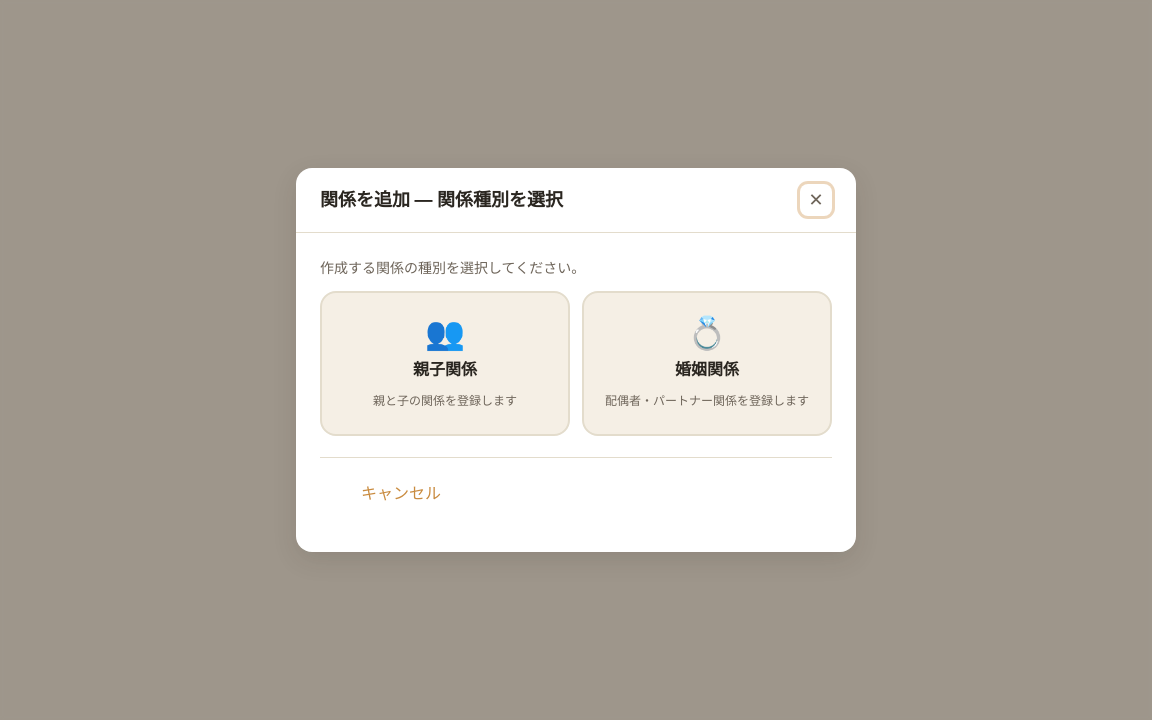
Test case: RelationDialog › ステップ遷移 › TC-06: 人物1を選択すると人物2選択ステップに進み、選択済み人物は除外される
The image size is (1152, 720).
Click the button "👥 親子関係 親と子の関係を登録します".
click(445, 364)  # box [320,291,570,436]
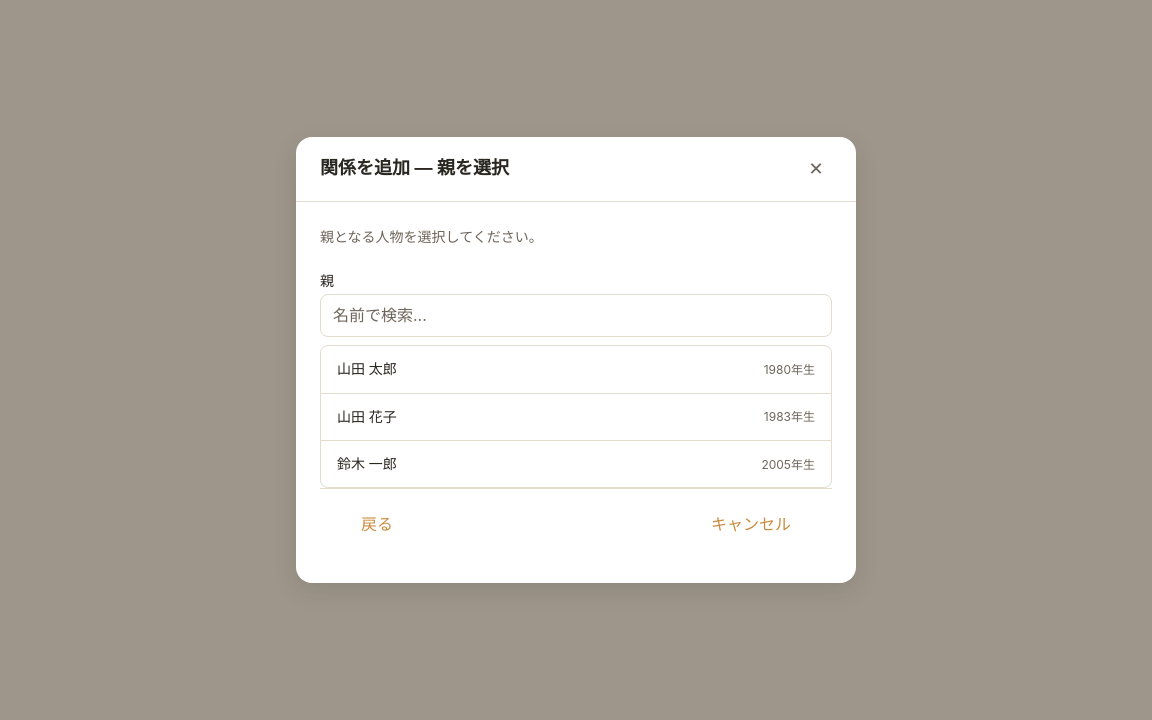
Expected: the option "山田 太郎 1980年生" is shown
Click the option "山田 太郎 1980年生".
click(367, 369)  # box [321,346,831,394]
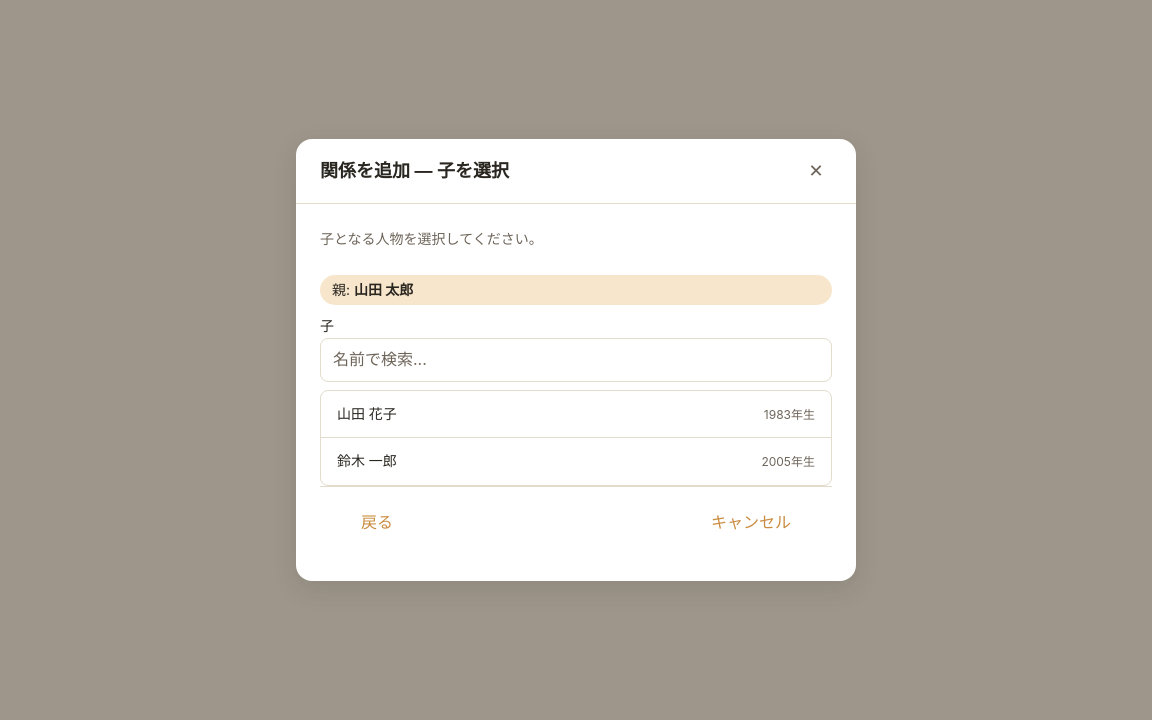
Expected: the text "山田 花子" is shown, [337,403,397,425]
Expected: the text "子となる人物を選択してください。" is shown, [320,230,543,247]
